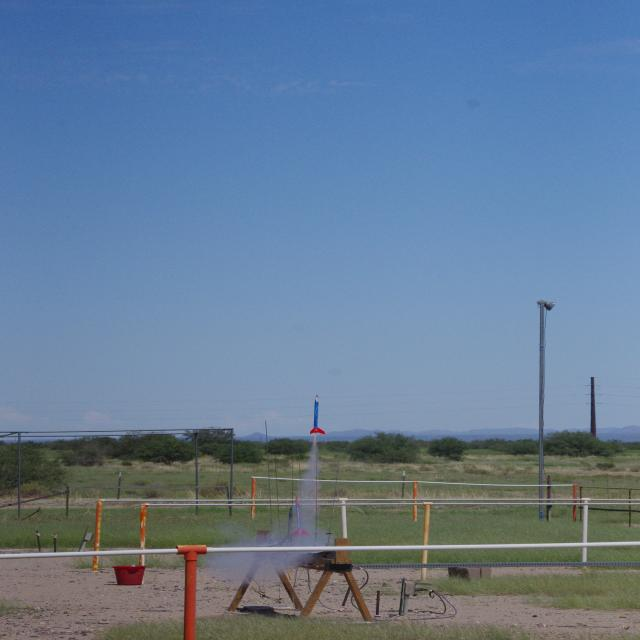Rocket: (310, 394, 326, 435), (292, 496, 308, 536), (281, 507, 295, 543)
